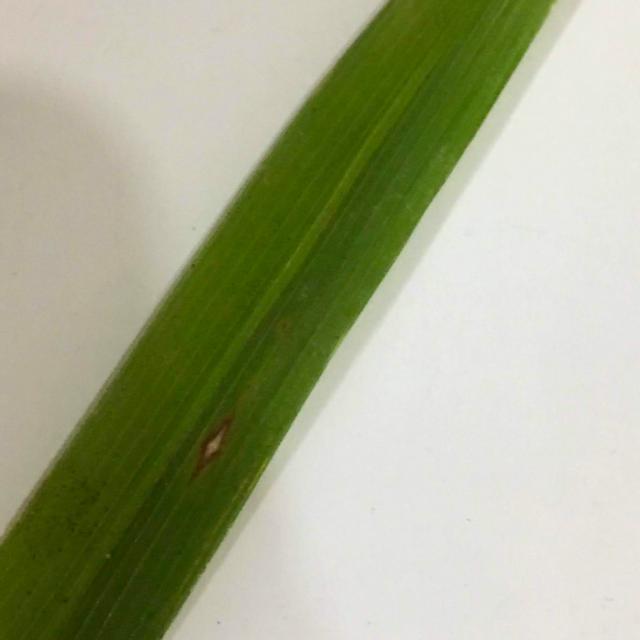Blast: (193, 410, 233, 476)
